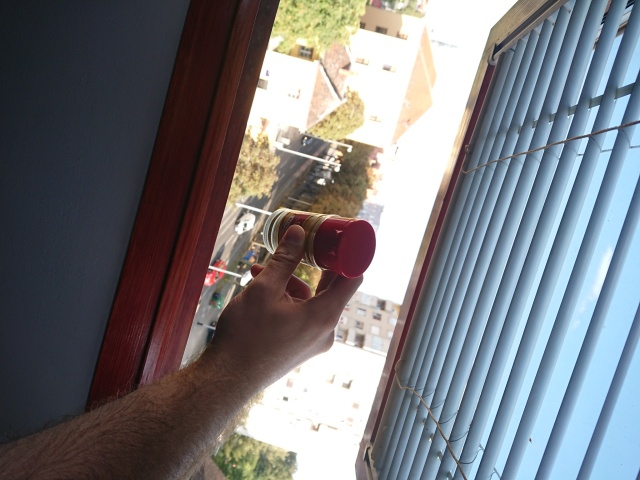Kotanyi Curry Spices Mix 70g: (261, 206, 378, 281)
